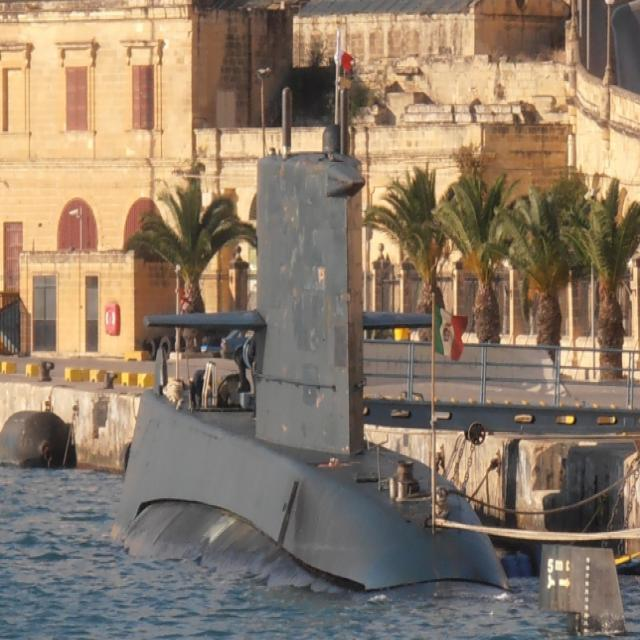submarine: (123, 34, 630, 632)
